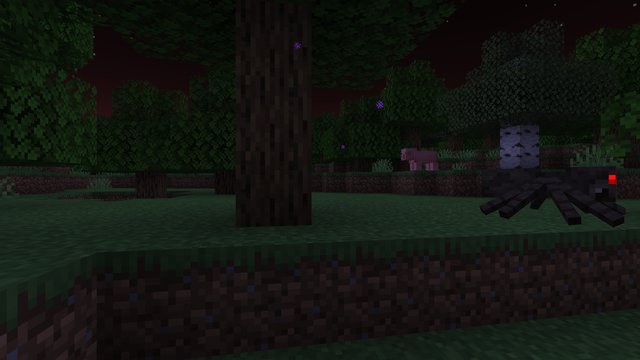araignees: (481, 158, 625, 225)
cochons: (408, 149, 437, 166)
